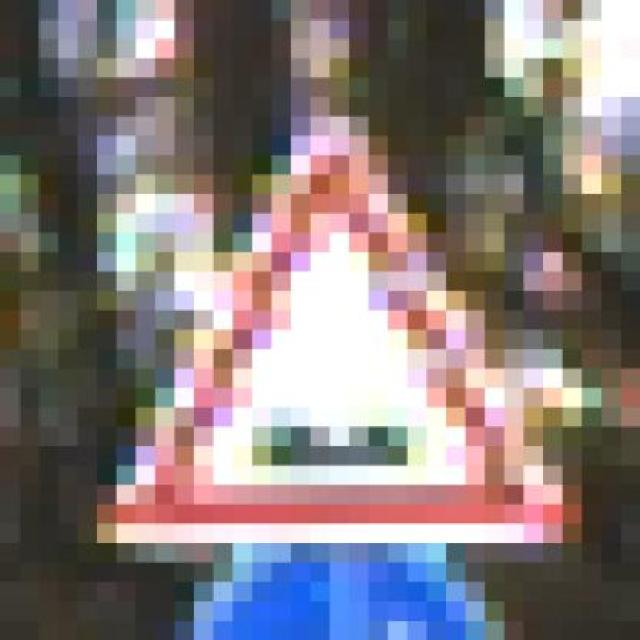Uneven Road: (97, 116, 563, 562)
